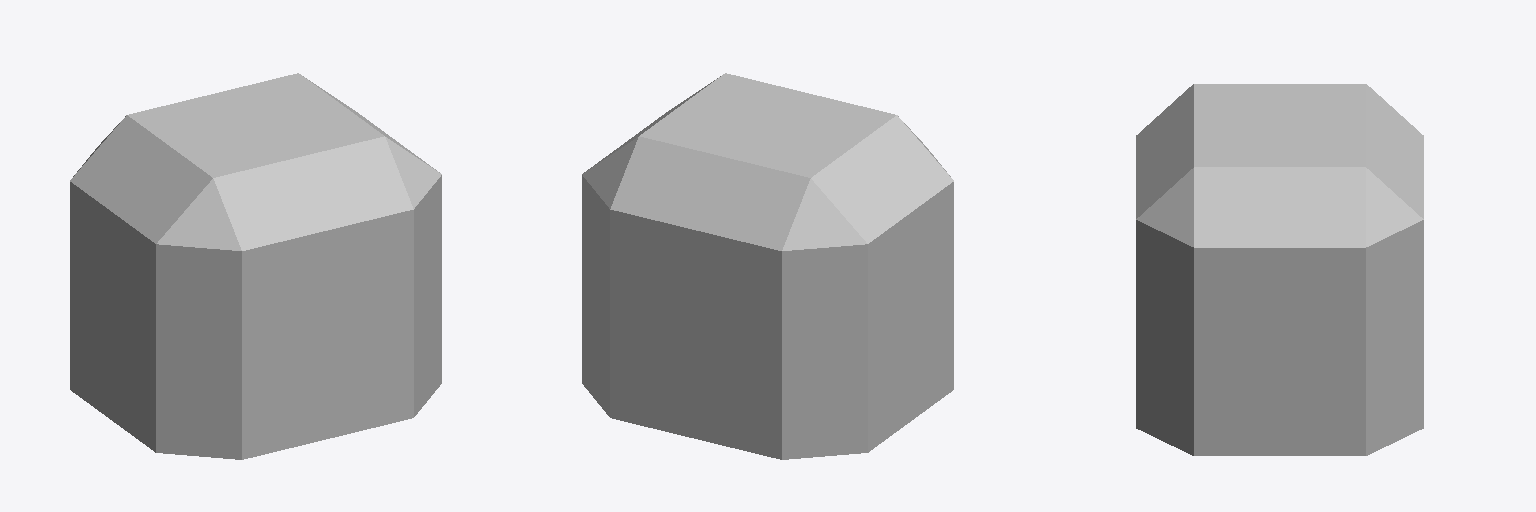
Rendered from Bush.obj.
3 views of the same model, side by side, from view 1: azimuth 30°, elevation 25°; view 2: azimuth 150°, elevation 25°; view 3: azimuth 270°, elevation 25° (orthographic).
Parts seen in each view (by area): view 1: Bush PROPS; view 2: Bush PROPS; view 3: Bush PROPS.
Boxes of the visible parts, <box> form: Bush PROPS: <box>70,73,441,459</box>; Bush PROPS: <box>582,73,953,459</box>; Bush PROPS: <box>1136,84,1423,455</box>.
Size of the model in its own units: 1.15 by 1 by 1.